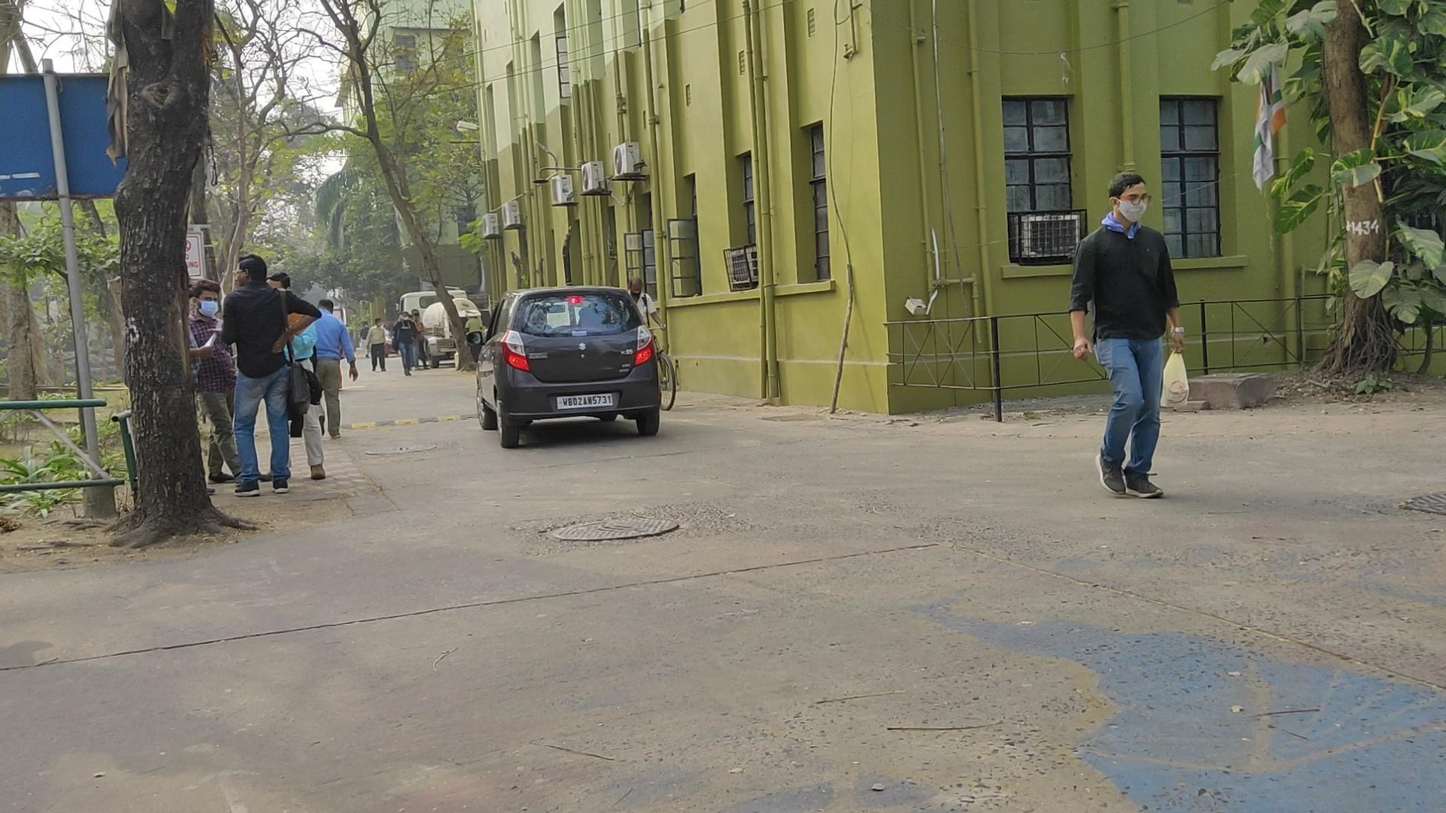bike: (615, 278, 677, 413)
car: (476, 286, 664, 449)
truck: (394, 290, 481, 369)
